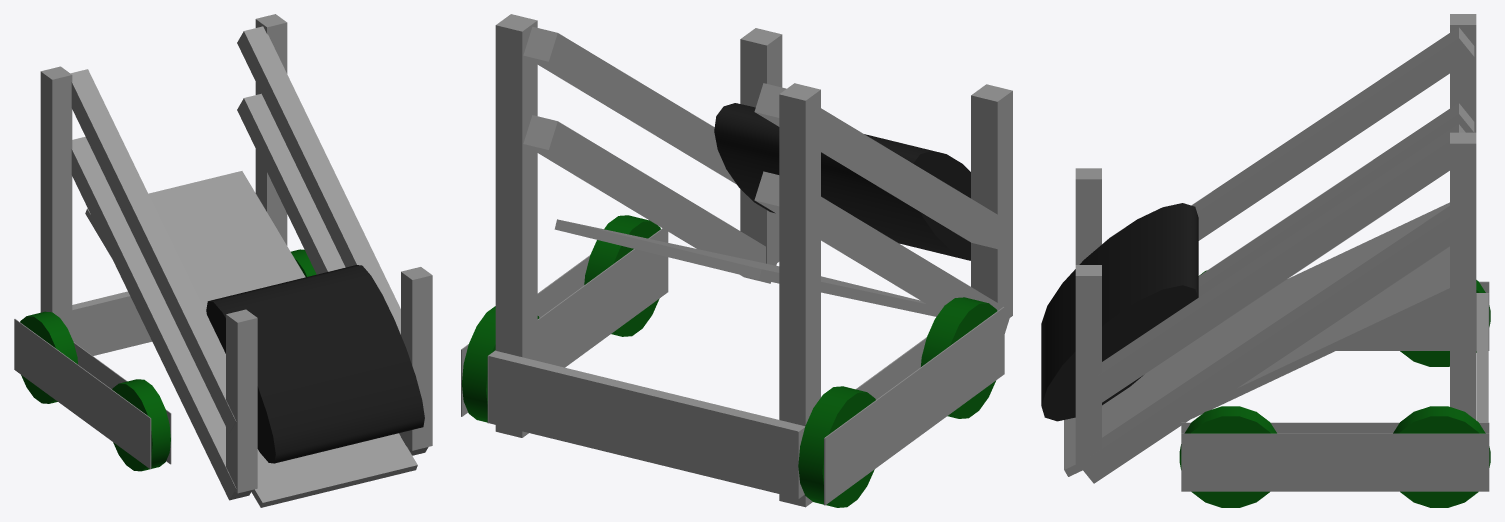
File: zackbot.FBX
3 views of the same model, side by side, from view 1: azimuth 30°, elevation 25°; view 2: azimuth 150°, elevation 25°; view 3: azimuth 270°, elevation 25° (orthographic). The views are drawn at different scales.
Parts seen in each view (by area): view 1: Cylinder005, Box012, Box013, Box018, Box014, Box007, Box004, Box017, Box015, Box016, Box002, Cylinder003 (+3 smaller); view 2: Box002, Box007, Box006, Box004, Cylinder005, Box017, Box013, Box014, Box005, Box015, Box018, Box012 (+7 smaller); view 3: Box003, Box012, Cylinder005, Box014, Box017, Box013, Box006, Box018, Box016, Box001, Cylinder001, Cylinder002 (+5 smaller).
Part boxes in pixels (box(x1,y1,x2,y2)): Cylinder005: box(206, 265, 424, 463); Box012: box(85, 171, 417, 507); Box013: box(70, 69, 236, 433); Box018: box(71, 136, 252, 500); Box014: box(237, 26, 400, 334); Box007: box(40, 66, 72, 338); Box004: box(14, 319, 151, 469); Box017: box(237, 93, 428, 455); Box015: box(226, 309, 257, 493); Box016: box(401, 267, 432, 450); Box002: box(72, 291, 151, 355); Cylinder003: box(112, 379, 170, 471); Box002: box(488, 351, 804, 498); Box007: box(779, 83, 820, 507); Box006: box(495, 14, 537, 437); Box004: box(824, 307, 1004, 505); Cylinder005: box(714, 103, 970, 260); Box017: box(523, 115, 776, 283); Box013: box(754, 83, 1011, 251); Box014: box(523, 26, 736, 184); Box005: box(487, 228, 668, 423); Box015: box(971, 84, 1012, 317); Box018: box(754, 171, 1011, 333); Box012: box(554, 219, 939, 316); Box003: box(1181, 433, 1489, 491); Box012: box(1064, 202, 1449, 476); Cylinder005: box(1041, 203, 1198, 421); Box014: box(1078, 124, 1465, 407); Box017: box(1078, 206, 1449, 483); Box013: box(1191, 27, 1474, 240); Box006: box(1450, 132, 1476, 419); Box018: box(1198, 103, 1474, 297); Box016: box(1075, 265, 1101, 468); Box001: box(1336, 293, 1489, 350); Cylinder001: box(1179, 406, 1276, 507); Cylinder002: box(1393, 406, 1490, 507).
Bounding box in the file's own units: 0.3571 × 0.3886 × 0.445.
